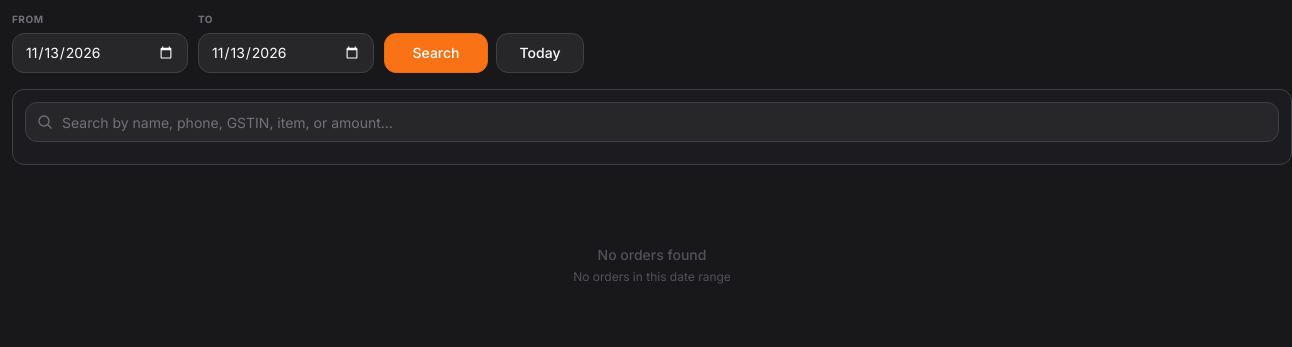
an inverted range blocks Search and shows why
The image size is (1292, 347).
Type "2000-01-01" into the date field labelled "To" at (286, 53), box [198,33,374,73]
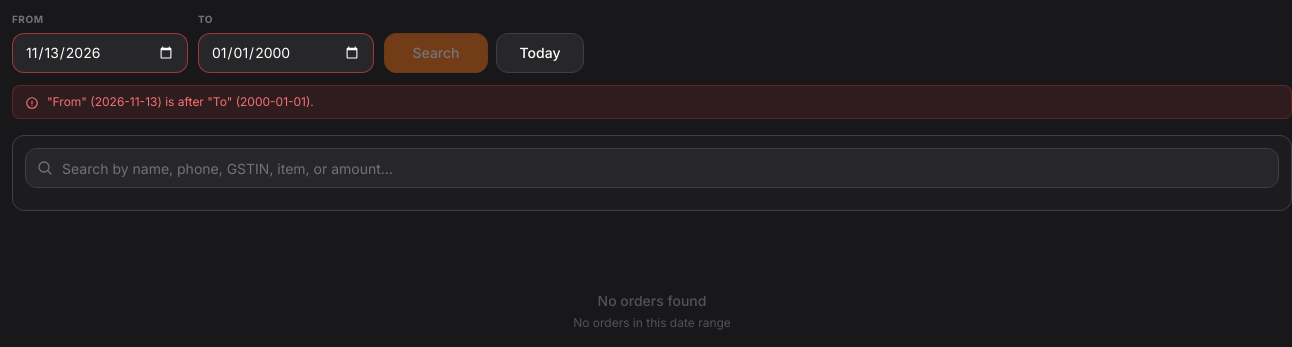
Expected: the message "\"From\" (2026-11-13) is after \"To\" (2000-01-01)." is shown, [12,85,1291,119]
Expected: the button "Search" is disabled, [384,33,488,73]
